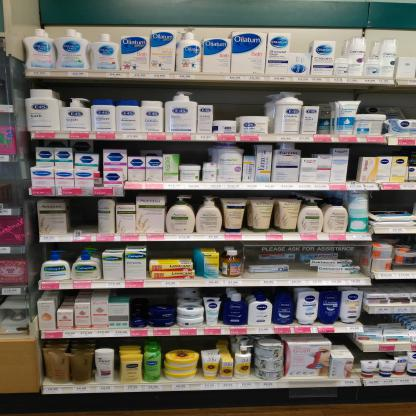Void: (220, 81, 262, 115), (69, 194, 98, 234), (372, 191, 412, 210), (149, 242, 192, 258), (133, 289, 173, 306), (164, 336, 216, 349), (374, 278, 414, 290), (184, 143, 203, 164), (364, 314, 392, 322)
